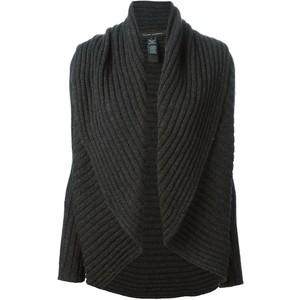S_cardigan sweater: (58, 8, 253, 300)
